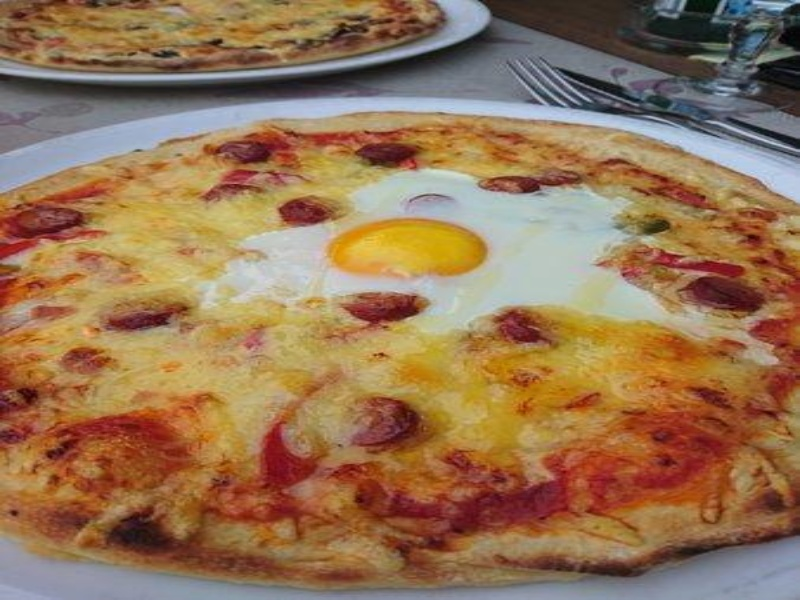oeuf: (308, 206, 508, 290)
